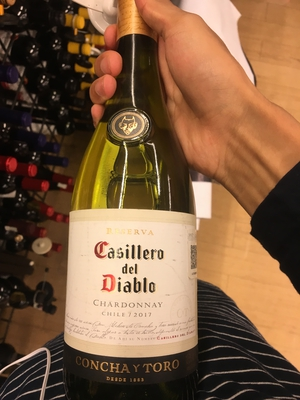casillero del diablo chardonnay: (60, 3, 203, 400)
